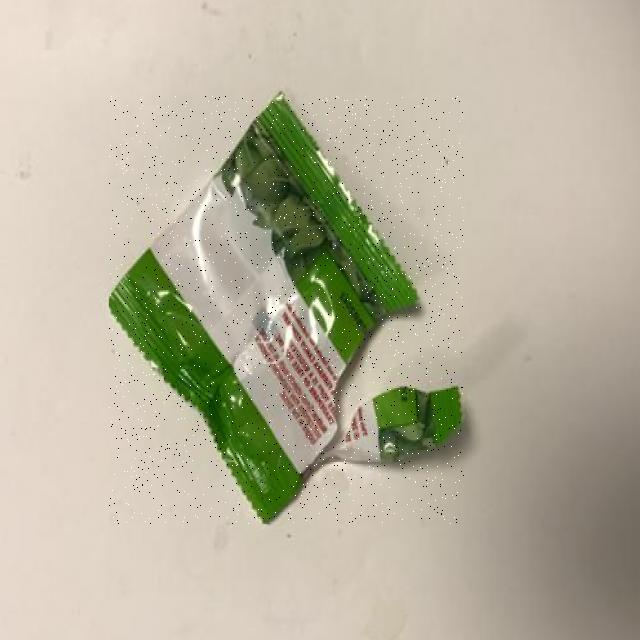wrapper: (109, 96, 464, 523)
